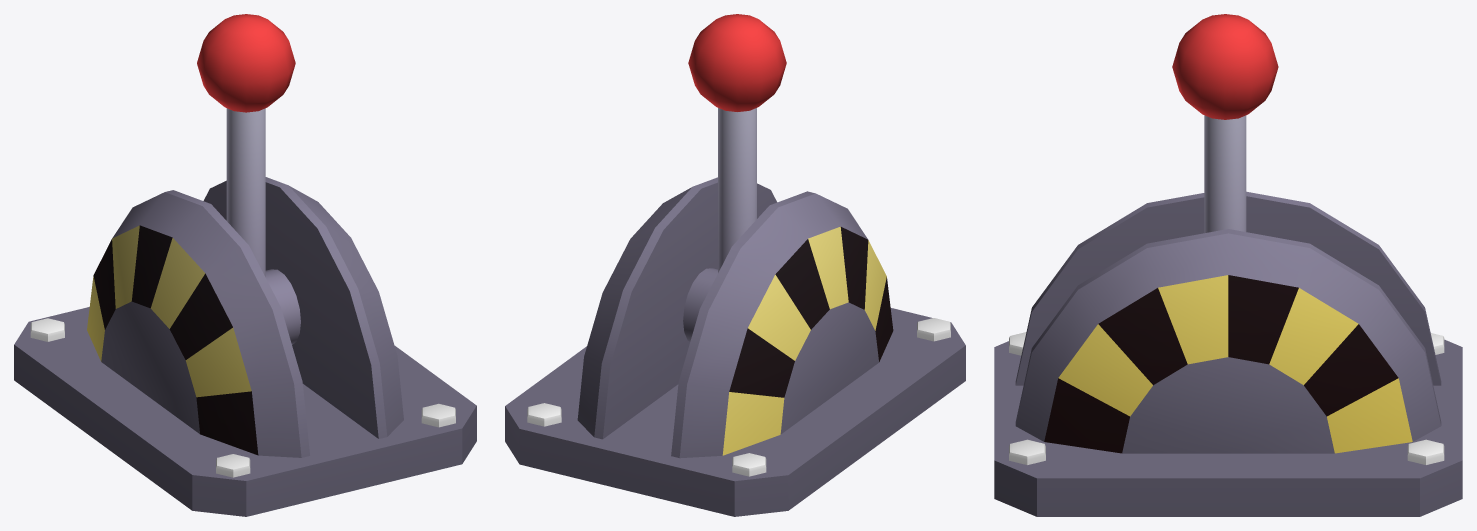
The model's file is Lever.fbx.
3 renders of one model, left to right at view 1: azimuth 30°, elevation 25°; view 2: azimuth 150°, elevation 25°; view 3: azimuth 270°, elevation 25°, orthographic. The views are drawn at different scales.
Parts seen in each view (by area): view 1: Sphere001, Cylinder002, Cylinder001; view 2: Sphere001, Cylinder002, Cylinder001; view 3: Sphere001, Cylinder002, Cylinder001.
Part boxes in pixels (x1,y1,x2,y2): Sphere001: [14, 177, 476, 516]; Cylinder002: [197, 14, 300, 344]; Cylinder001: [30, 318, 455, 477]; Sphere001: [505, 177, 965, 516]; Cylinder002: [683, 14, 786, 341]; Cylinder001: [527, 318, 950, 476]; Sphere001: [994, 191, 1462, 516]; Cylinder002: [1172, 14, 1278, 233]; Cylinder001: [1009, 332, 1444, 464].
Bounding box in the file's own units: 82.99 × 110 × 110.
Materials: 3 (3 with a texture image).
